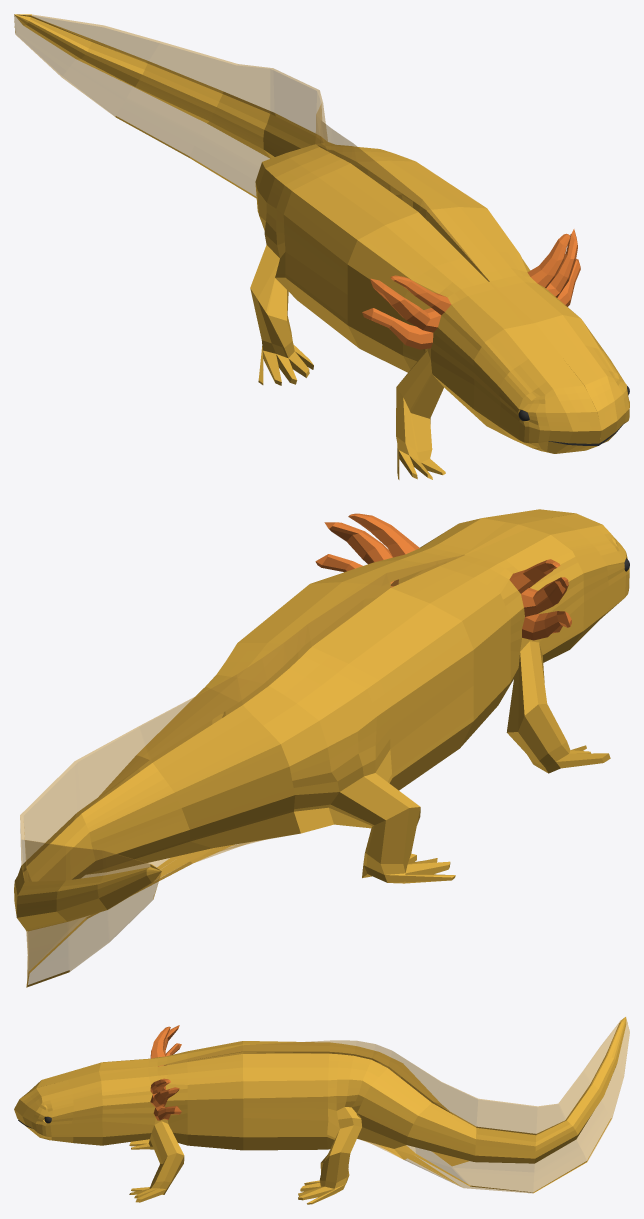
Rendered from axolotl.fbx.
3 renders of one model, top to bottom at view 1: azimuth 30°, elevation 25°; view 2: azimuth 150°, elevation 25°; view 3: azimuth 270°, elevation 25°, orthographic. The views are drawn at different scales.
Visible parts, largest first — view 1: Axolotl Body; view 2: Axolotl Body; view 3: Axolotl Body.
Boxes of the visible parts, box(x1,y1,x2,y2) form: Axolotl Body: box(14, 14, 629, 479); Axolotl Body: box(14, 509, 629, 987); Axolotl Body: box(14, 1017, 629, 1204).
Size of the model in its own units: 258 by 228 by 977.
